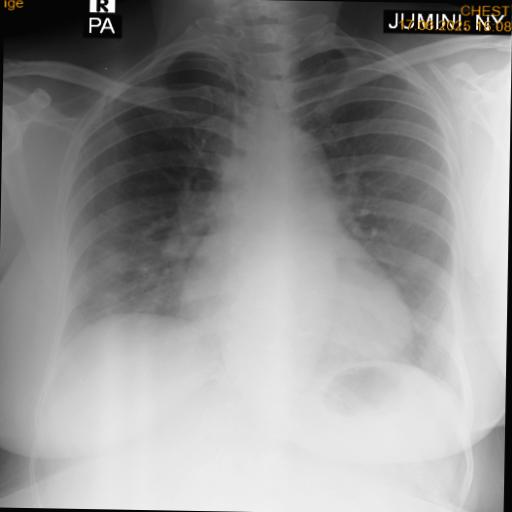kardiomegali: (13, 28, 480, 418)
